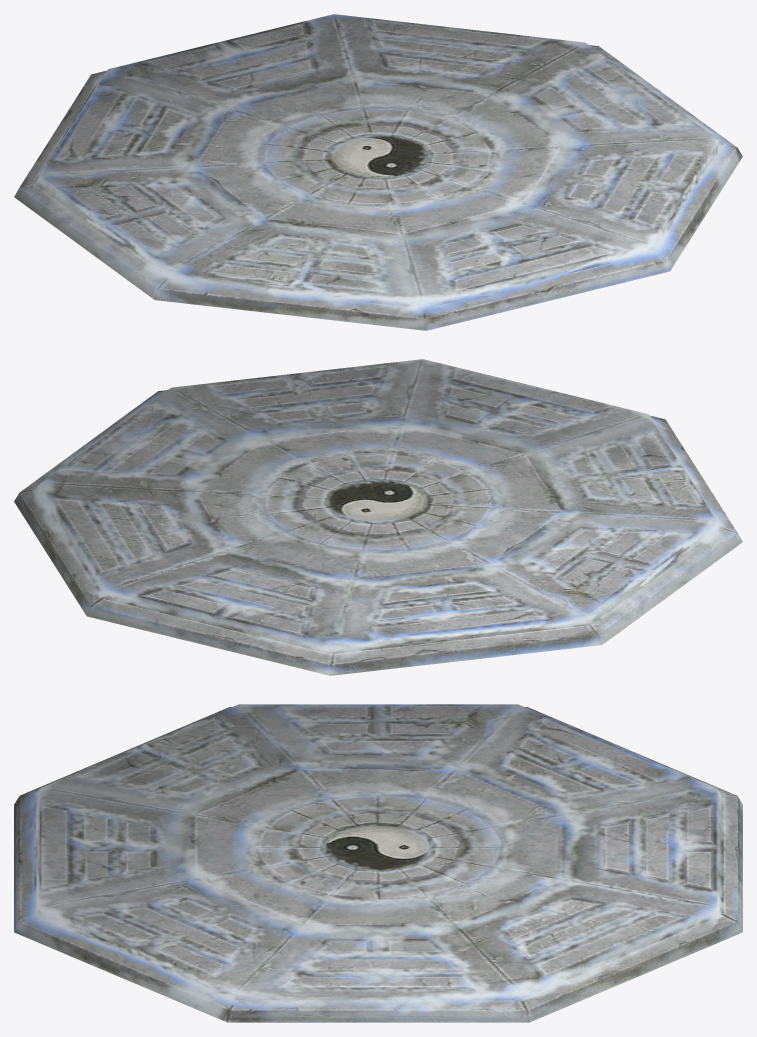
The model's file is jz_jiantai_01.FBX.
3 renders of one model, top to bottom at view 1: azimuth 30°, elevation 25°; view 2: azimuth 150°, elevation 25°; view 3: azimuth 270°, elevation 25°, orthographic. The views are drawn at different scales.
Parts seen in each view (by area): view 1: jz_jiantai_01; view 2: jz_jiantai_01; view 3: jz_jiantai_01.
Boxes of the visible parts, left/top/right/bottom form: jz_jiantai_01: left=14, top=14, right=742, bottom=330; jz_jiantai_01: left=14, top=359, right=742, bottom=675; jz_jiantai_01: left=14, top=704, right=742, bottom=1022.
Bounding box in the file's own units: 1090 × 35.5 × 1090.
